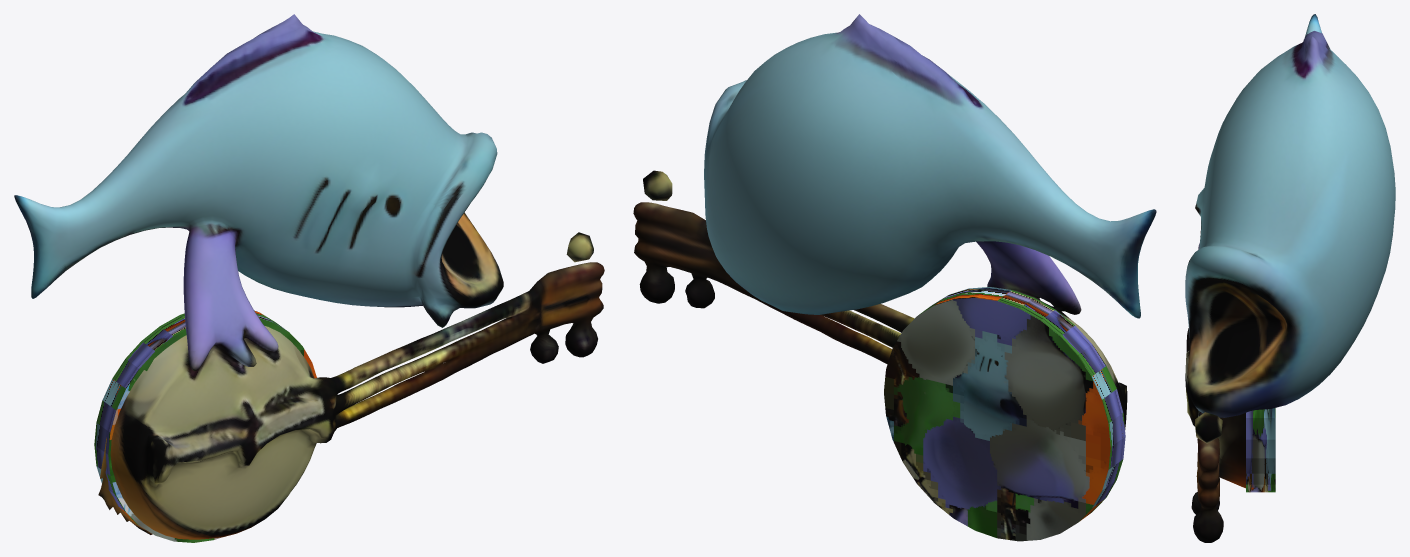
The model's file is pet-foish.glb.
3 renders of one model, left to right at view 1: azimuth 30°, elevation 25°; view 2: azimuth 150°, elevation 25°; view 3: azimuth 270°, elevation 25°, orthographic. The views are drawn at different scales.
Parts seen in each view (by area): view 1: Foish; view 2: Foish; view 3: Foish.
Part boxes in pixels (x1,y1,x2,y2): Foish: (14, 14, 604, 542); Foish: (633, 14, 1156, 541); Foish: (1185, 14, 1395, 542).
Size of the model in its own units: 0.2516 by 0.2131 by 0.081.
1 material, 1 textured.
